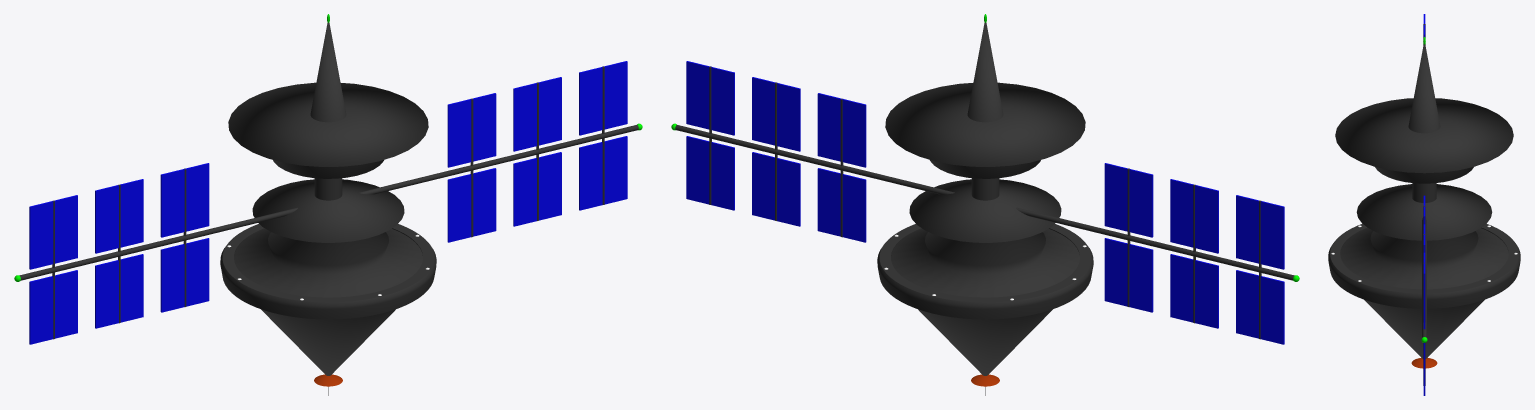
The model's file is Minidock.FBX.
The picture shows the model from 3 angles, left to right: view 1: azimuth 30°, elevation 25°; view 2: azimuth 150°, elevation 25°; view 3: azimuth 270°, elevation 25°; orthographic projection. The views are drawn at different scales.
Parts seen in each view (by area): view 1: Minidock; view 2: Minidock; view 3: Minidock.
Boxes of the visible parts, x1=… form: Minidock: x1=14, y1=14, x2=642, y2=395; Minidock: x1=671, y1=14, x2=1299, y2=395; Minidock: x1=1328, y1=14, x2=1520, y2=395.
Bounding box in the file's own units: 16.59 × 9.66 × 4.95.
